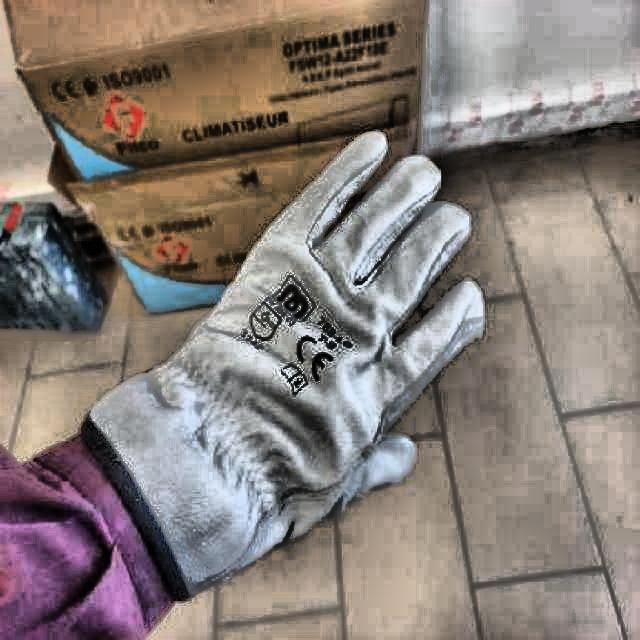gloved: (85, 133, 489, 602)
